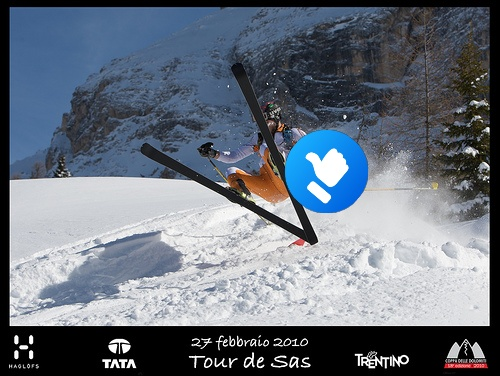like: (285, 130, 368, 213)
